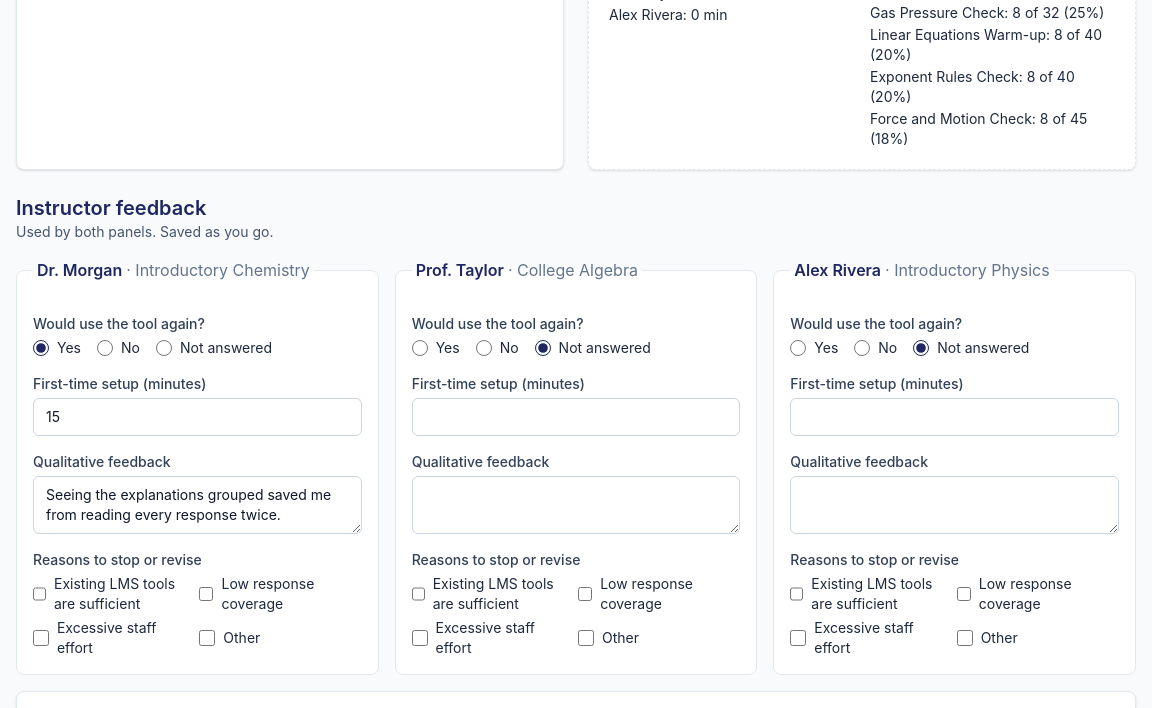
Scenario: setting two instructors to reuse Yes turns demo Reuse intention to Met
The width and height of the screenshot is (1152, 708).
(page scrolled)
Click the radio button labelled "Yes" below "College Algebra" at (420, 348), box left=412, top=340, right=428, bottom=356
(page scrolled)
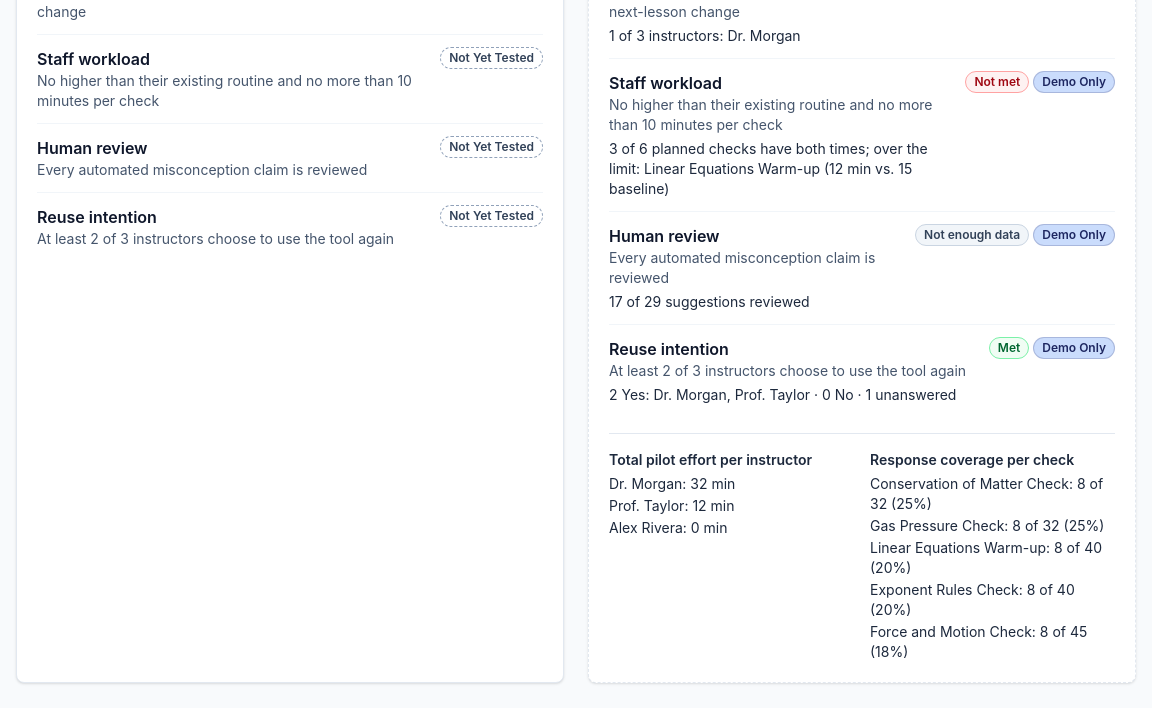
Now the text "Met" is shown, box left=989, top=337, right=1029, bottom=359
